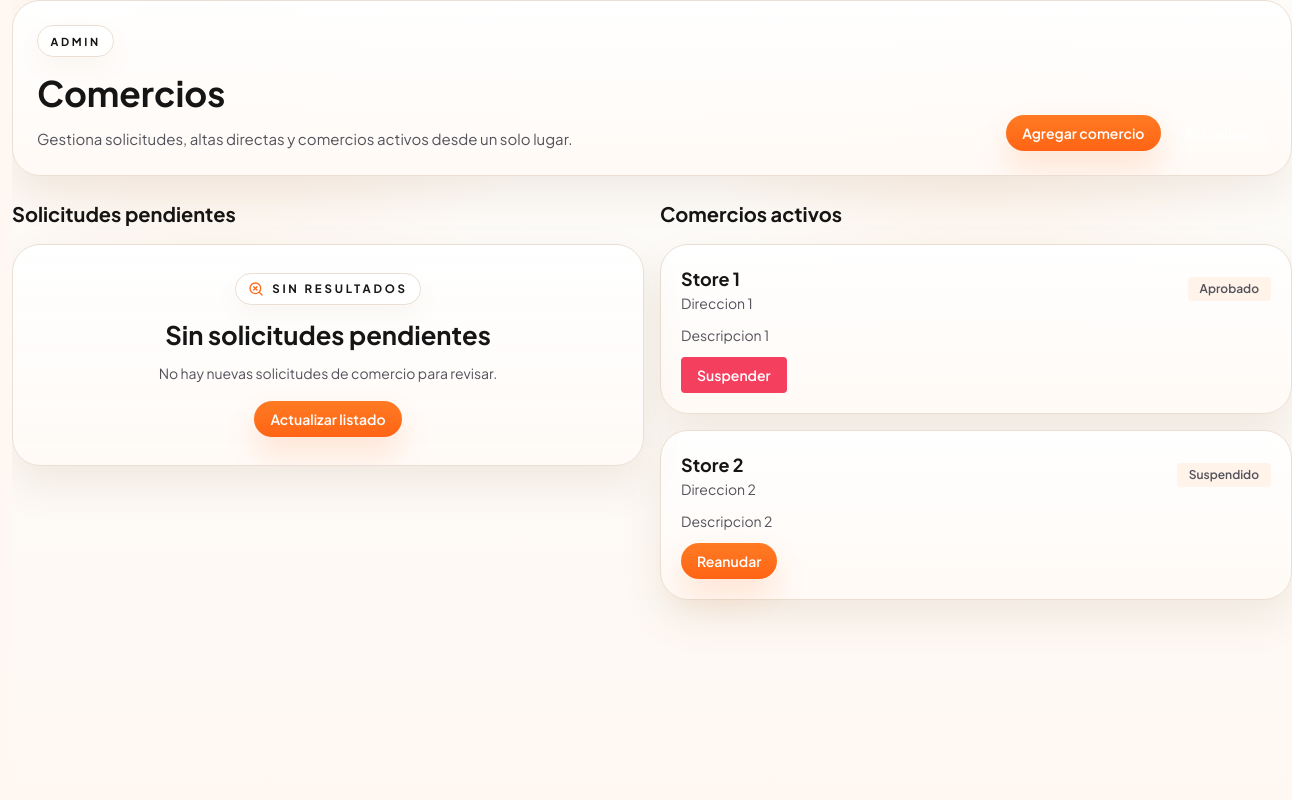
StoresPage › actualiza la card inmediatamente al suspender y reanudar sin esperar el refresh
Click the button "Suspender": [734, 375] box [681, 357, 787, 393]
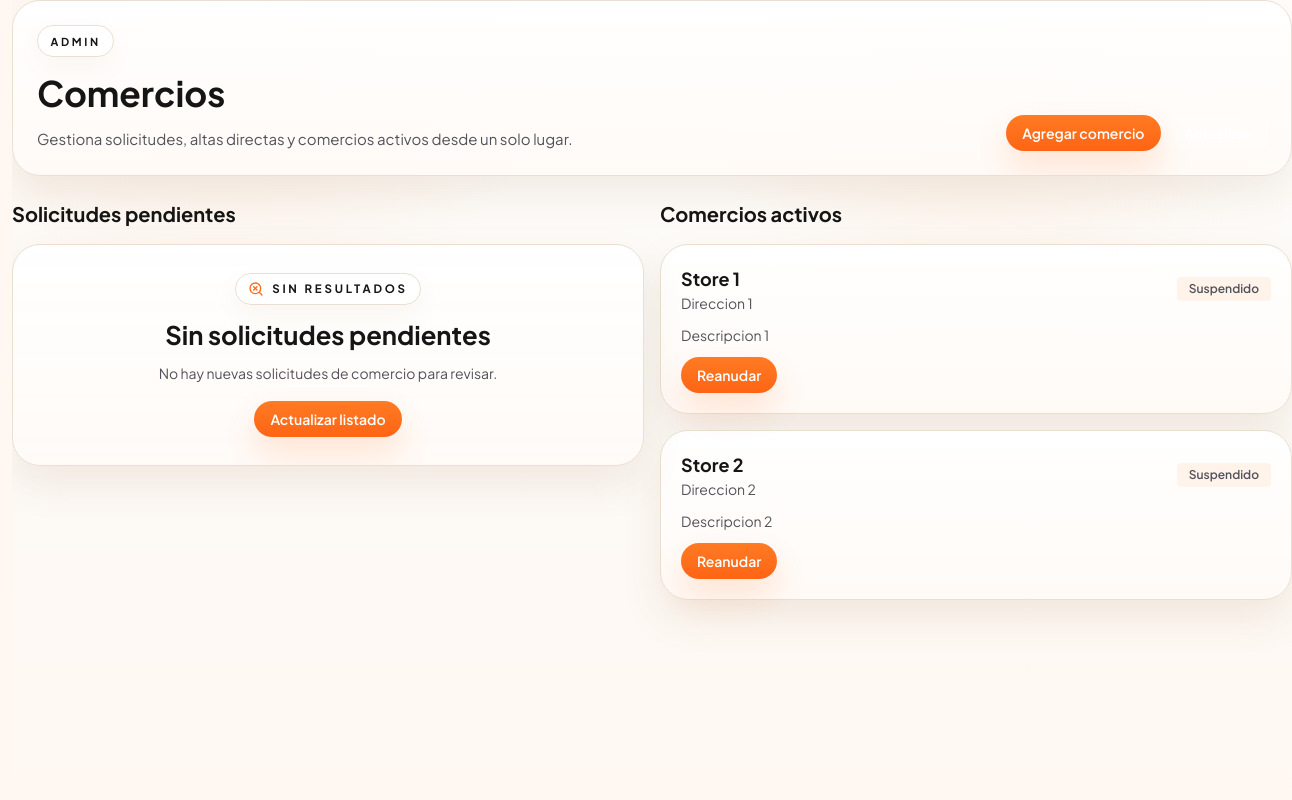
expect the text "Suspendido" in the row of "Direccion 1" is shown: met, box [1189, 281, 1259, 296]
expect the button "Reanudar" below "Descripcion 1" is shown: met, box [681, 357, 777, 393]
